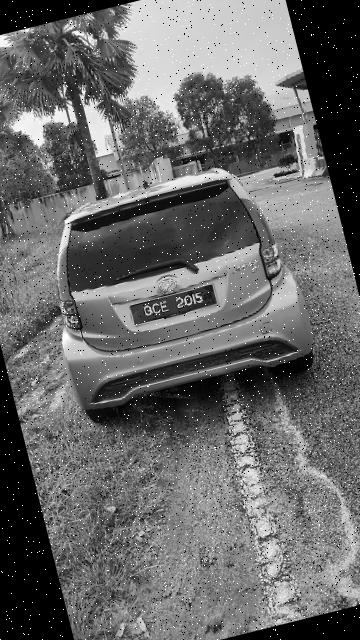License_Plate: (127, 281, 229, 328)
car: (22, 154, 325, 430)
